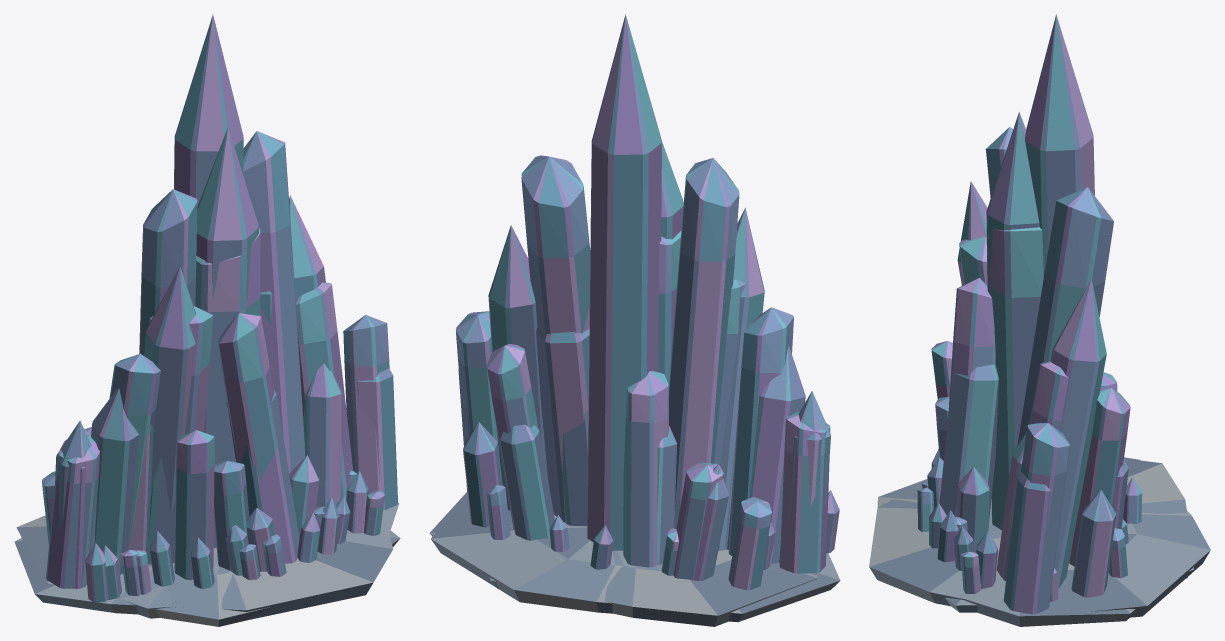
Rendered from world05-crystal-kit-v1.glb.
The picture shows the model from 3 angles, left to right: view 1: azimuth 30°, elevation 25°; view 2: azimuth 150°, elevation 25°; view 3: azimuth 270°, elevation 25°; orthographic projection.
Parts seen in each view (by area): view 1: crystal-fan-crystals, crystal-low-crystals, crystal-spire-crystals, crystal-low-base, crystal-fan-base, crystal-spire-base; view 2: crystal-spire-crystals, crystal-low-crystals, crystal-fan-crystals, crystal-low-base, crystal-fan-base; view 3: crystal-fan-crystals, crystal-low-crystals, crystal-spire-crystals, crystal-low-base, crystal-fan-base.
Part boxes in pixels (bbox=[...]): crystal-fan-crystals: bbox=[55, 127, 389, 599]; crystal-low-crystals: bbox=[42, 228, 397, 602]; crystal-spire-crystals: bbox=[128, 14, 356, 586]; crystal-low-base: bbox=[14, 533, 393, 620]; crystal-fan-base: bbox=[16, 503, 399, 626]; crystal-spire-base: bbox=[120, 530, 400, 618]; crystal-spire-crystals: bbox=[562, 14, 775, 569]; crystal-low-crystals: bbox=[458, 231, 839, 590]; crystal-fan-crystals: bbox=[456, 142, 830, 581]; crystal-low-base: bbox=[431, 510, 840, 622]; crystal-fan-base: bbox=[429, 491, 817, 626]; crystal-fan-crystals: bbox=[948, 112, 1130, 601]; crystal-low-crystals: bbox=[917, 227, 1142, 614]; crystal-spire-crystals: bbox=[922, 14, 1094, 577]; crystal-low-base: bbox=[869, 457, 1210, 617]; crystal-fan-base: bbox=[877, 458, 1186, 626].
Bounding box in the file's own units: 5.14 × 7.19 × 4.17.
